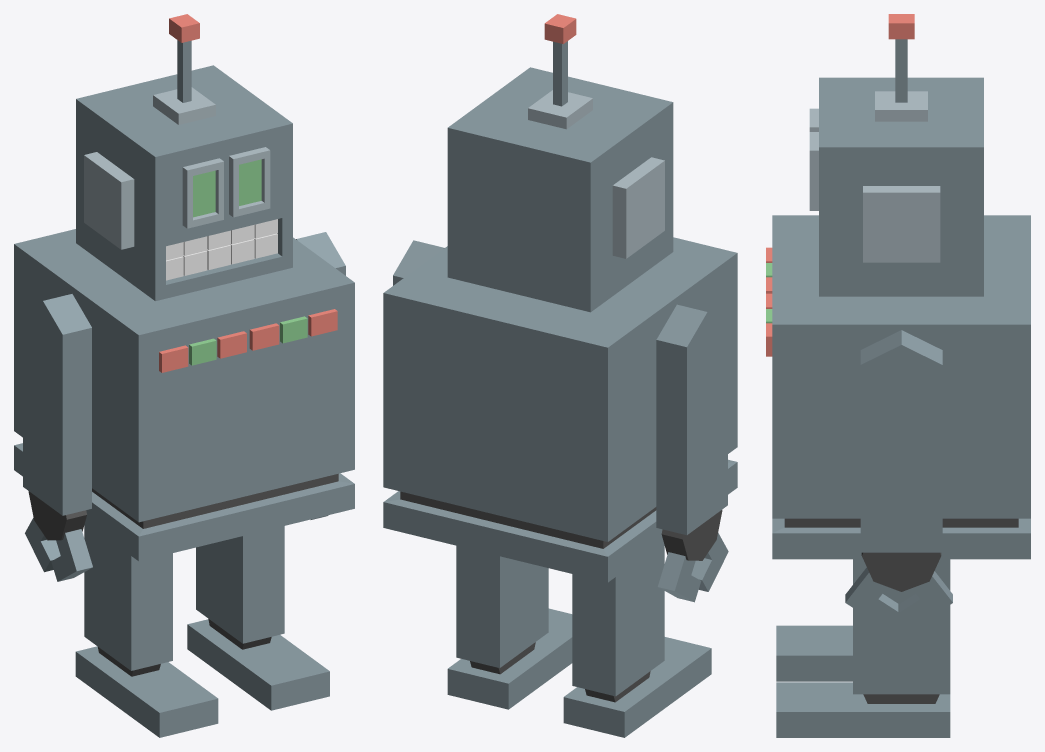
The picture shows the model from 3 angles, left to right: view 1: azimuth 30°, elevation 25°; view 2: azimuth 150°, elevation 25°; view 3: azimuth 270°, elevation 25°; orthographic projection. The views are drawn at different scales.
Parts seen in each view (by area): view 1: Robot_01_Cube.030; view 2: Robot_01_Cube.030; view 3: Robot_01_Cube.030.
Part boxes in pixels (bbox=[...]): Robot_01_Cube.030: bbox=[14, 14, 354, 737]; Robot_01_Cube.030: bbox=[383, 14, 737, 737]; Robot_01_Cube.030: bbox=[766, 14, 1030, 737].
Size of the model in its own units: 13.1 by 28.84 by 10.24.
